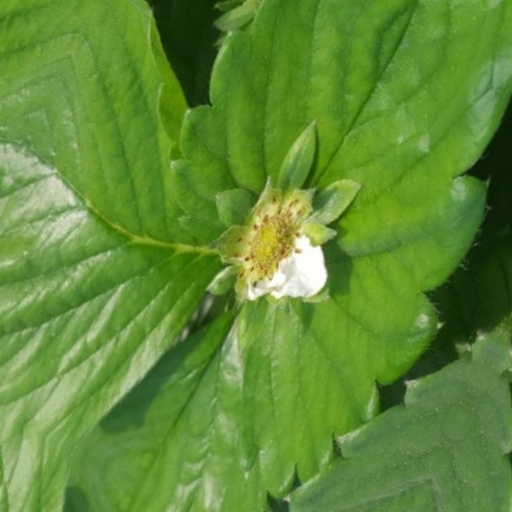Blossom Blight: (228, 222, 297, 336)
